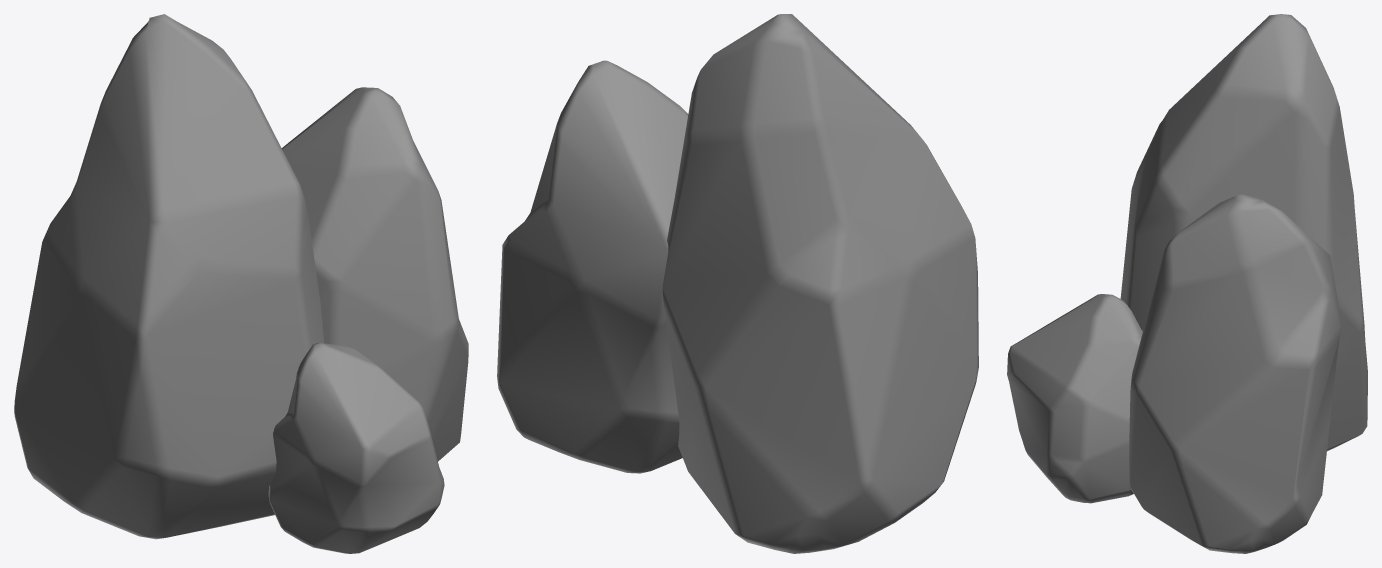
Rendered from rock-01.glb.
The picture shows the model from 3 angles, left to right: view 1: azimuth 30°, elevation 25°; view 2: azimuth 150°, elevation 25°; view 3: azimuth 270°, elevation 25°; orthographic projection. The views are drawn at different scales.
Parts seen in each view (by area): view 1: rock 01; view 2: rock 01; view 3: rock 01.
Boxes of the visible parts, x1,y1,x2,y2 form: rock 01: [14, 14, 468, 553]; rock 01: [497, 14, 978, 553]; rock 01: [1007, 14, 1367, 553].
Size of the model in its own units: 1.52 by 1.74 by 1.32.
Materials: 1 (1 with a texture image).
